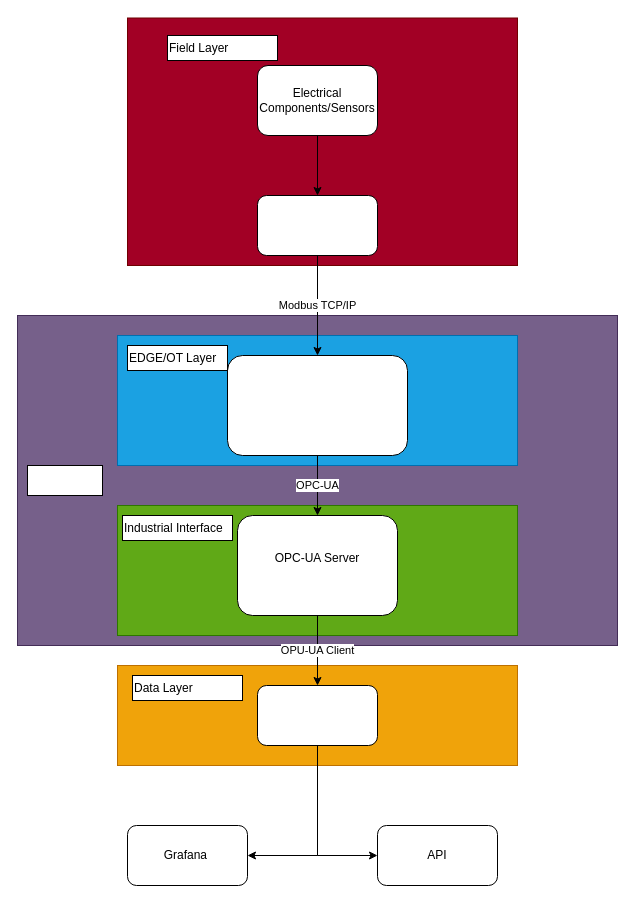
The diagram is 635 pixels wide and 903 high, and some of its shapes have lost their labels. The shapes that lost their labels are listed below. From the top down, each one's box as (x1, y1, x2, y2) in pixels, then its label:
(256, 194, 378, 256): ESP-32 (Sends data as Modbus Registers/coils)
(226, 354, 408, 456): NodeRed (Queries via MODBUS and transforms data to OPC send to OPC-UA
(26, 464, 102, 496): NodeRed
(256, 684, 378, 746): PostgreSQL
